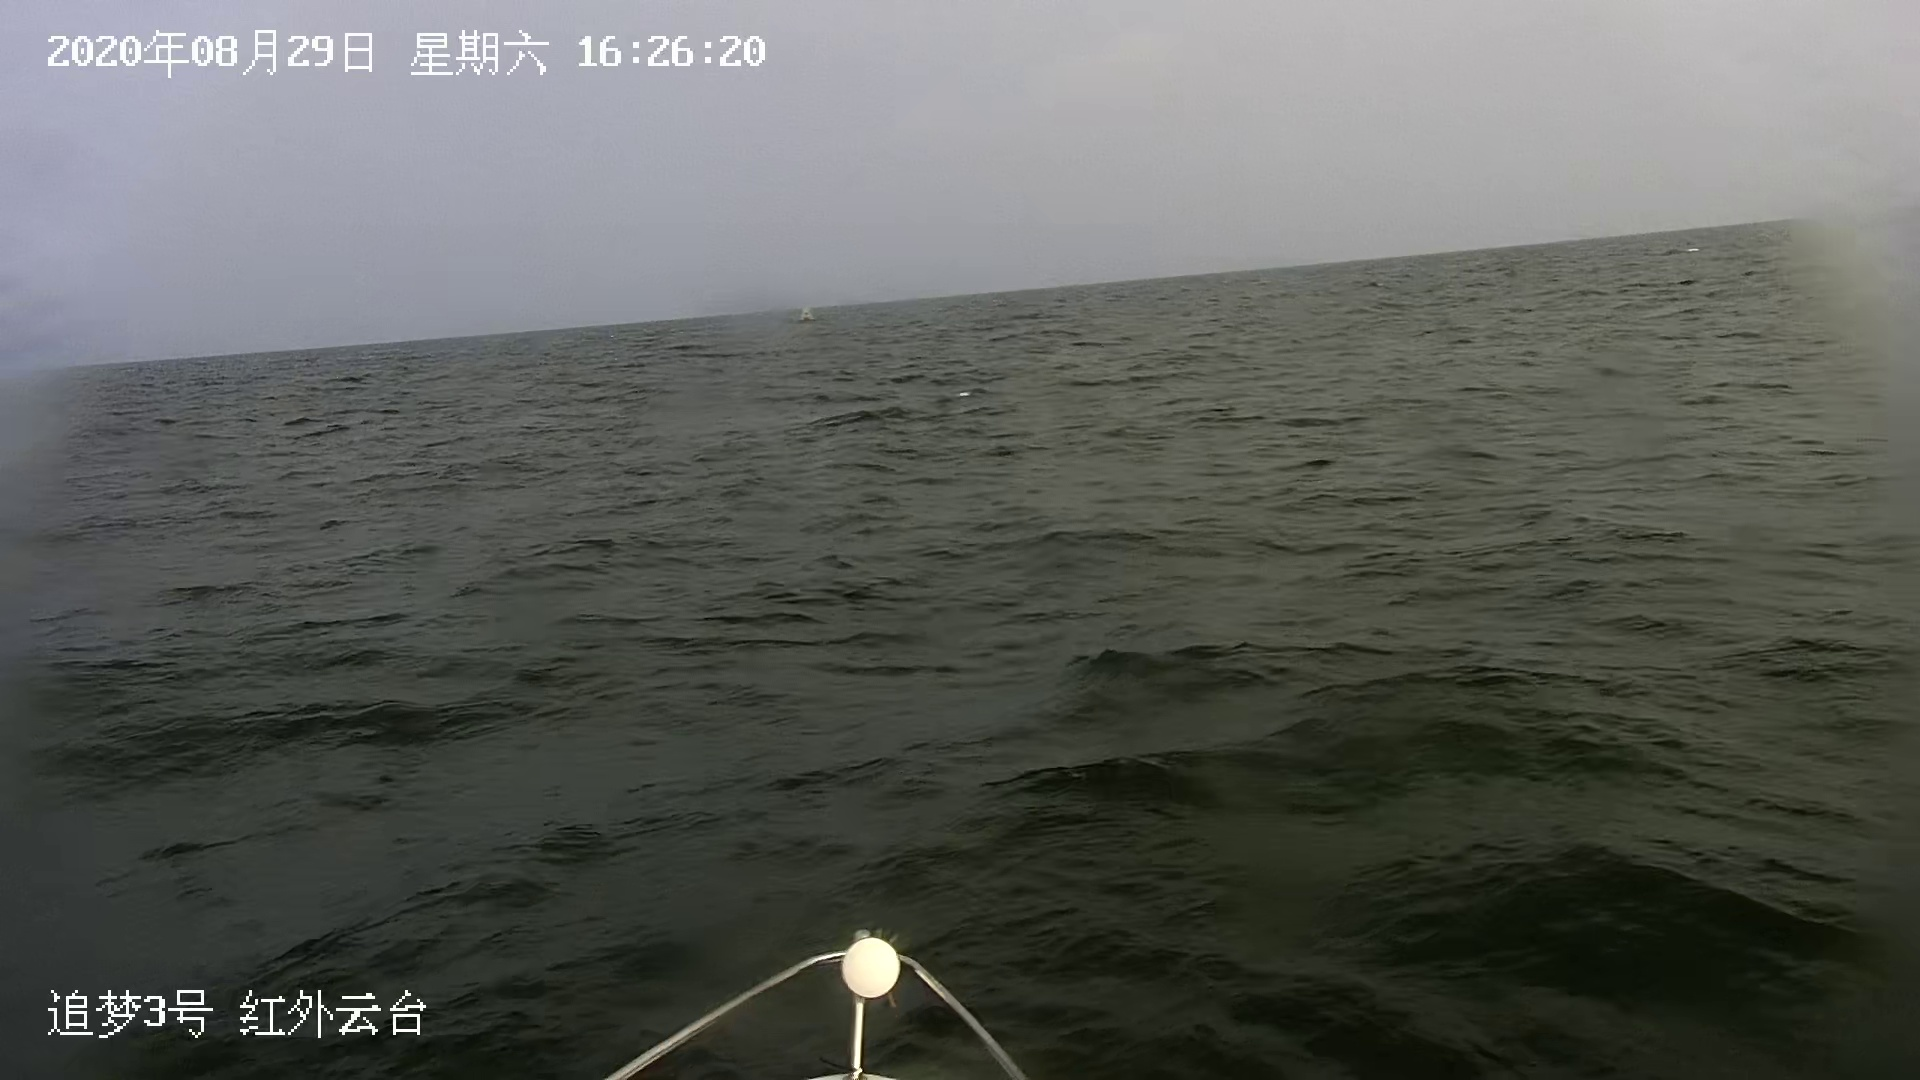barrier: (798, 302, 818, 324)
